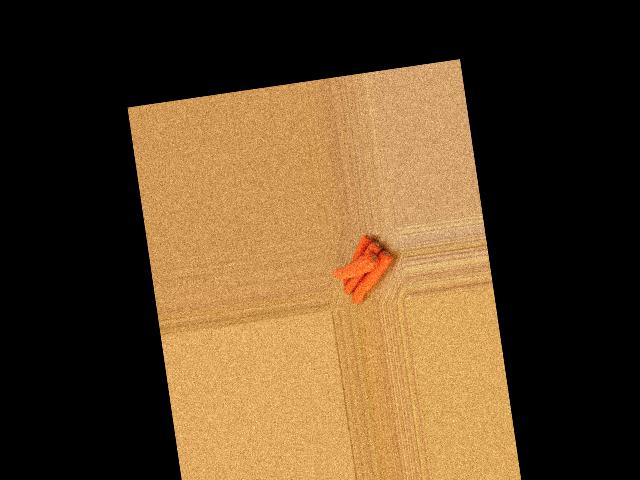carrot: (338, 229, 378, 273)
